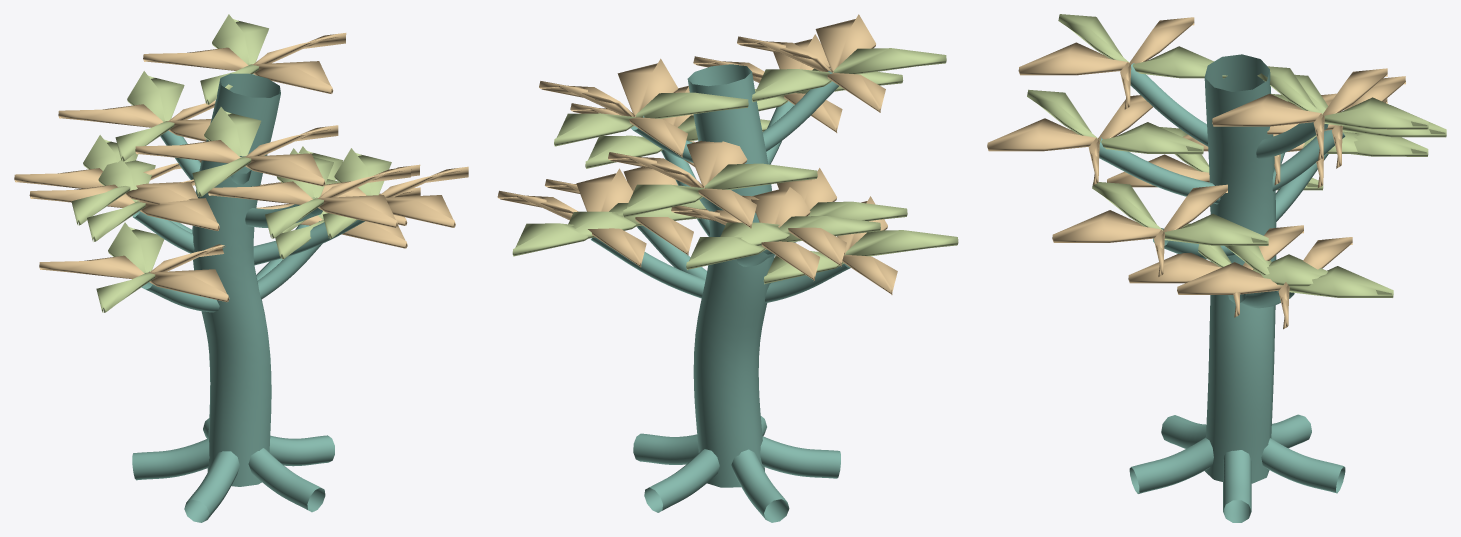
The model's file is bio_canopy_tree_21_near.glb.
3 renders of one model, left to right at view 1: azimuth 30°, elevation 25°; view 2: azimuth 150°, elevation 25°; view 3: azimuth 270°, elevation 25°, orthographic. The views are drawn at different scales.
Parts seen in each view (by area): view 1: Buttressed trunk, Broad canopy leaf.035, Broad canopy leaf.010, Broad canopy leaf.015, Broad canopy leaf.020, Broad canopy leaf.005, Broad canopy leaf.045, Broad canopy leaf.036, Broad canopy leaf.025, Broad canopy leaf.021, Broad canopy leaf.031, Broad canopy leaf.030 (+7 smaller); view 2: Buttressed trunk, Broad canopy leaf.035, Broad canopy leaf.015, Broad canopy leaf.030, Broad canopy leaf.016, Broad canopy leaf.031, Broad canopy leaf.036, Broad canopy leaf.040, Broad canopy leaf.005, Broad canopy leaf.006, Broad canopy leaf.021, Broad canopy leaf.046 (+9 smaller); view 3: Buttressed trunk, Broad canopy leaf.035, Broad canopy leaf.015, Broad canopy leaf.025, Broad canopy leaf.010, Broad canopy leaf.026, Broad canopy leaf.011, Broad canopy leaf.040, Broad canopy leaf.016, Broad canopy leaf.036, Broad canopy leaf, Broad canopy leaf.041 (+6 smaller).
Boxes of the visible parts, x1,y1,x2,y2 form: Buttressed trunk: (132, 73, 364, 522); Broad canopy leaf.035: (135, 125, 338, 186); Broad canopy leaf.010: (208, 166, 410, 227); Broad canopy leaf.015: (143, 33, 346, 93); Broad canopy leaf.020: (39, 244, 229, 302); Broad canopy leaf.005: (14, 160, 201, 204); Broad canopy leaf.045: (29, 179, 219, 230); Broad canopy leaf.036: (192, 107, 261, 197); Broad canopy leaf.025: (321, 166, 468, 227); Broad canopy leaf.021: (96, 222, 164, 312); Broad canopy leaf.031: (115, 71, 184, 161); Broad canopy leaf.030: (58, 100, 215, 141); Buttressed trunk: (590, 64, 850, 522); Broad canopy leaf.035: (737, 14, 885, 112); Broad canopy leaf.015: (539, 58, 687, 157); Broad canopy leaf.030: (608, 140, 756, 228); Broad canopy leaf.016: (554, 92, 748, 146); Broad canopy leaf.031: (623, 163, 817, 217); Broad canopy leaf.036: (752, 48, 946, 101); Broad canopy leaf.040: (497, 168, 646, 267); Broad canopy leaf.005: (671, 187, 819, 281); Broad canopy leaf.006: (686, 216, 880, 269); Broad canopy leaf.021: (763, 230, 958, 284); Broad canopy leaf.046: (720, 201, 907, 245); Buttressed trunk: (1099, 54, 1345, 522); Broad canopy leaf.035: (1018, 17, 1194, 109); Broad canopy leaf.015: (1212, 68, 1387, 160); Broad canopy leaf.025: (1052, 184, 1227, 276); Broad canopy leaf.010: (987, 95, 1152, 185); Broad canopy leaf.026: (1092, 182, 1268, 245); Broad canopy leaf.011: (1027, 89, 1203, 154); Broad canopy leaf.040: (1177, 237, 1352, 329); Broad canopy leaf.016: (1257, 66, 1428, 129); Broad canopy leaf.036: (1058, 14, 1227, 78); Broad canopy leaf: (1128, 225, 1303, 317); Broad canopy leaf.041: (1224, 245, 1393, 297).
Size of the model in its own units: 3.06 by 3.05 by 3.05.
